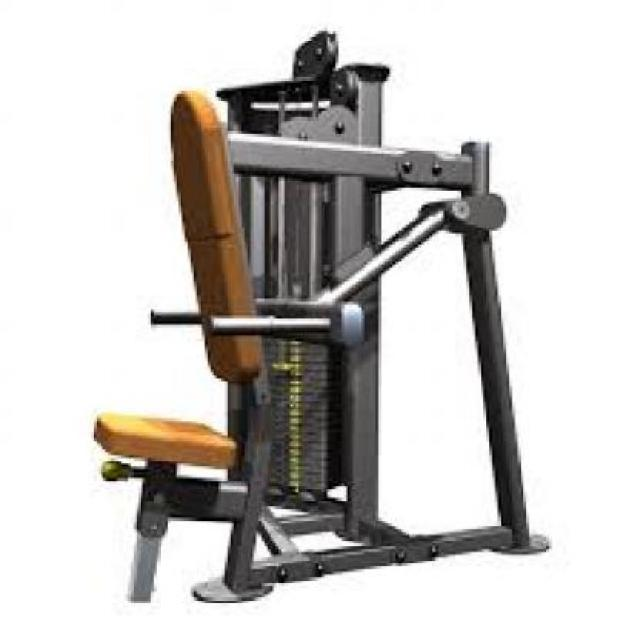seated dip machine: (85, 21, 557, 608)
